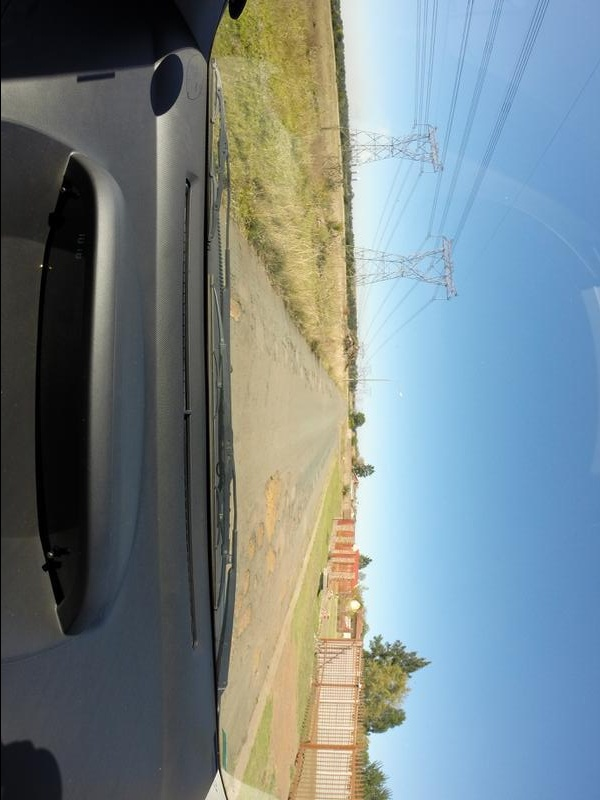pothole: (257, 464, 292, 546), (235, 603, 258, 645), (263, 549, 285, 583), (230, 292, 250, 327), (247, 650, 264, 689), (238, 569, 251, 600), (247, 533, 258, 565)
